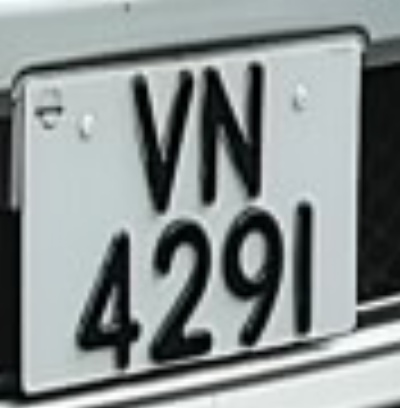1: (283, 184, 333, 348)
2: (137, 213, 223, 367)
4: (64, 214, 150, 376)
9: (215, 195, 290, 357)
N: (193, 41, 271, 203)
V: (119, 53, 199, 215)
